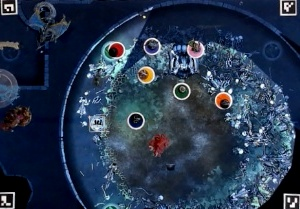blue: (118, 108, 148, 133)
green: (173, 80, 195, 101)
orange: (215, 90, 234, 111)
pink: (185, 40, 206, 58)
red: (107, 40, 127, 58)
violet: (143, 36, 162, 54)
yellow: (131, 64, 159, 85)
